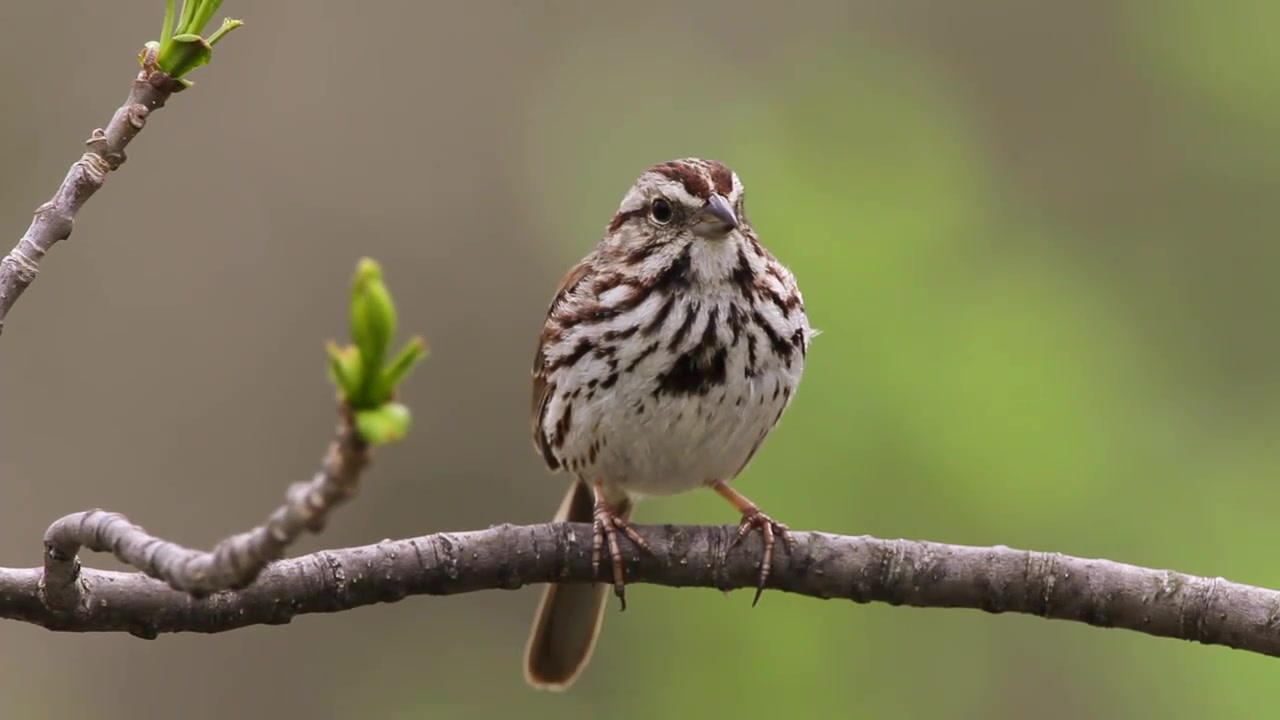bird: (526, 157, 823, 692)
